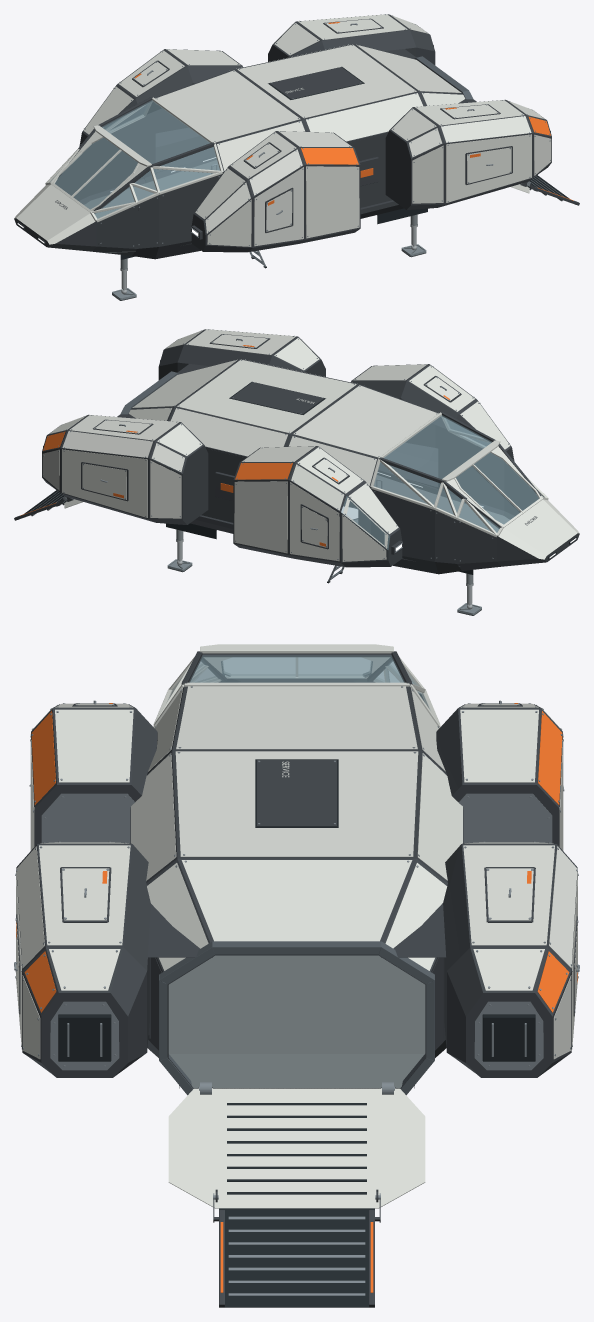
The model's file is explorer-current-open-review.glb.
The picture shows the model from 3 angles, top to bottom: view 1: azimuth 30°, elevation 25°; view 2: azimuth 150°, elevation 25°; view 3: azimuth 270°, elevation 25°; orthographic projection. The views are drawn at different scales.
Parts seen in each view (by area): view 1: Core removable outer cover 05-3, Core removable outer cover 04-3, Shoulder -1 service panel 2-5, Wedge nose | continuous pressure skin, Cockpit glazing 03-3 pane 0, Aft housing -1 service panel 1-5, Core removable outer cover 05-4, Core pressure skin 03-1, Core removable outer cover 03-5, Shoulder -1 service panel 1-5, Aft housing -1 end closure 0, Core removable outer cover 06-3 (+54 smaller); view 2: Core removable outer cover 05-3, Core removable outer cover 04-3, Shoulder 1 service panel 2-1, Wedge nose | continuous pressure skin, Cockpit glazing 03-3 pane 0, Aft housing 1 service panel 1-1, Core removable outer cover 05-2, Core pressure skin 03-5, Core removable outer cover 03-1, Shoulder 1 service panel 1-1, Aft housing 1 end closure 0, Core removable outer cover 06-3 (+54 smaller); view 3: Crew access floor | round opening, Rear ramp main leaf, Core removable outer cover 05-3, Core removable outer cover 06-3, Core removable outer cover 04-3, Rear ramp folding tread, Aft housing 1 service panel 1-3, Aft housing -1 service panel 1-3, Cockpit glazing 03-3 pane 0, Shoulder -1 service panel 2-3, Shoulder 1 service panel 2-3, Dorsal maintenance cover (+49 smaller).
Boxes of the visible parts, <box> form: Core removable outer cover 05-3: <box>237,44,416,118</box>; Core removable outer cover 04-3: <box>155,70,300,142</box>; Shoulder -1 service panel 2-5: <box>306,166,359,238</box>; Wedge nose | continuous pressure skin: <box>14,184,96,251</box>; Cockpit glazing 03-3 pane 0: <box>102,100,209,163</box>; Aft housing -1 service panel 1-5: <box>446,134,531,202</box>; Core removable outer cover 05-4: <box>306,93,422,141</box>; Core pressure skin 03-1: <box>89,117,144,195</box>; Core removable outer cover 03-5: <box>161,174,220,244</box>; Shoulder -1 service panel 1-5: <box>254,167,303,246</box>; Aft housing -1 end closure 0: <box>385,130,410,209</box>; Core removable outer cover 06-3: <box>356,44,461,92</box>; Core removable outer cover 05-3: <box>177,359,356,433</box>; Core removable outer cover 04-3: <box>293,385,438,457</box>; Shoulder 1 service panel 2-1: <box>234,481,287,553</box>; Wedge nose | continuous pressure skin: <box>497,499,579,566</box>; Cockpit glazing 03-3 pane 0: <box>384,415,491,478</box>; Aft housing 1 service panel 1-1: <box>62,449,147,517</box>; Core removable outer cover 05-2: <box>170,408,287,456</box>; Core pressure skin 03-5: <box>449,432,504,510</box>; Core removable outer cover 03-1: <box>373,489,432,559</box>; Shoulder 1 service panel 1-1: <box>290,482,339,561</box>; Aft housing 1 end closure 0: <box>183,445,208,524</box>; Core removable outer cover 06-3: <box>132,359,237,407</box>; Crew access floor | round opening: <box>168,955,425,1088</box>; Rear ramp main leaf: <box>168,1088,425,1208</box>; Core removable outer cover 05-3: <box>175,751,418,856</box>; Core removable outer cover 06-3: <box>181,860,412,941</box>; Core removable outer cover 04-3: <box>176,686,417,749</box>; Rear ramp folding tread: <box>219,1208,374,1307</box>; Aft housing 1 service panel 1-3: <box>463,845,554,945</box>; Aft housing -1 service panel 1-3: <box>39,845,130,945</box>; Cockpit glazing 03-3 pane 0: <box>189,655,404,682</box>; Shoulder -1 service panel 2-3: <box>55,709,133,782</box>; Shoulder 1 service panel 2-3: <box>460,709,538,782</box>; Dorsal maintenance cover: <box>257,760,336,826</box>.
Size of the model in its own units: 12.77 by 3.96 by 6.53.
